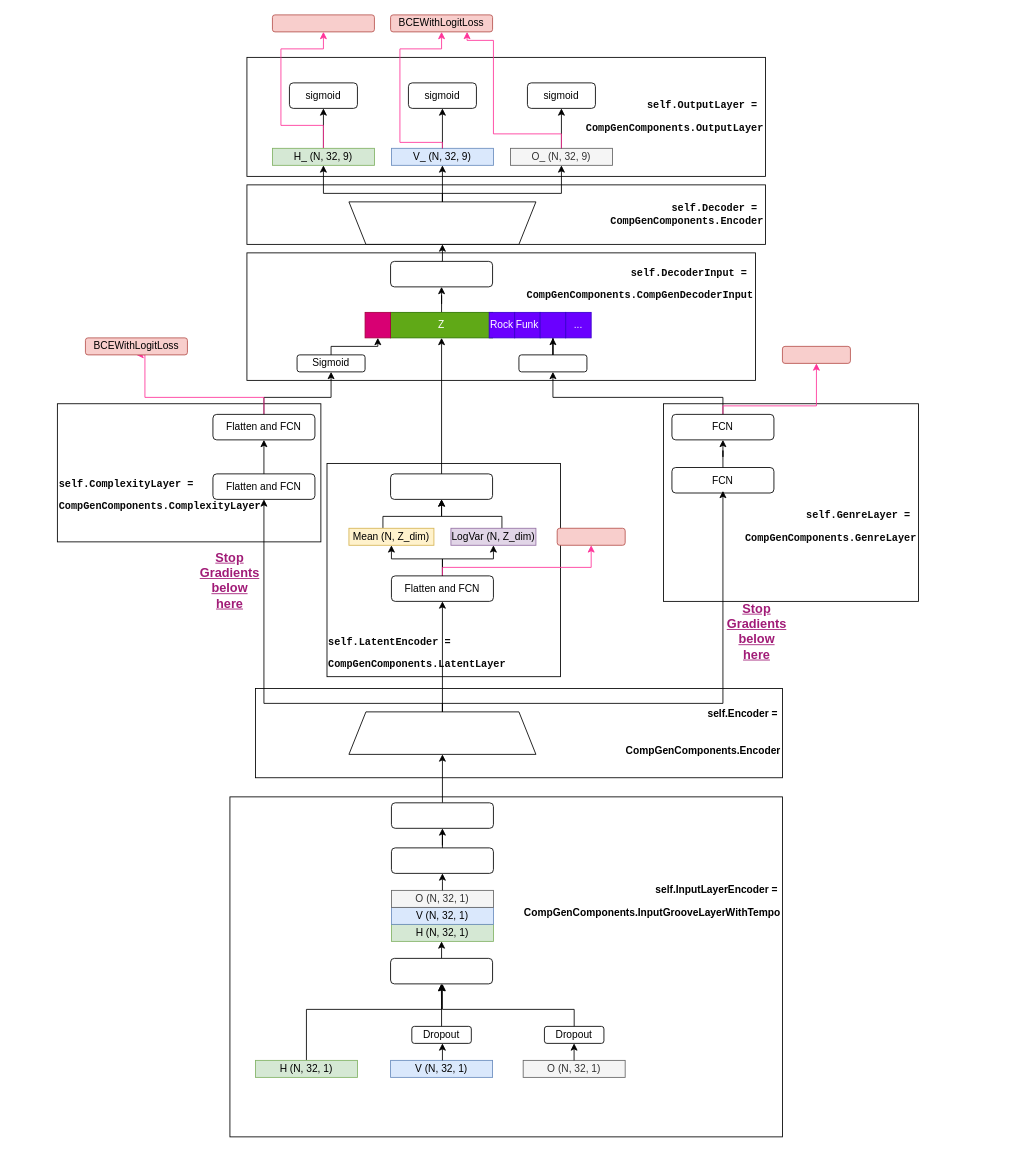
Some shapes in this 1026 by 1152 pixel diagram are drawn without their labels. Each missing label, with the centre of its shape:
"Comp lexity" goes at point 377,325.
"concat" goes at point 441,971.
"CrossEntropy" goes at point 816,354.
"Decoder" goes at point 442,222.
"Encoder" goes at point 442,732.
"FCN and Reshape" goes at point 441,274.
"FocalLoss" goes at point 323,23.
"Input Layer (FCN)" goes at point 442,860.
"KLDiv" goes at point 590,536.
"PositionalEncoding" goes at point 442,815.
"Reparametrize" goes at point 441,486.
"Softmax" goes at point 552,363.
